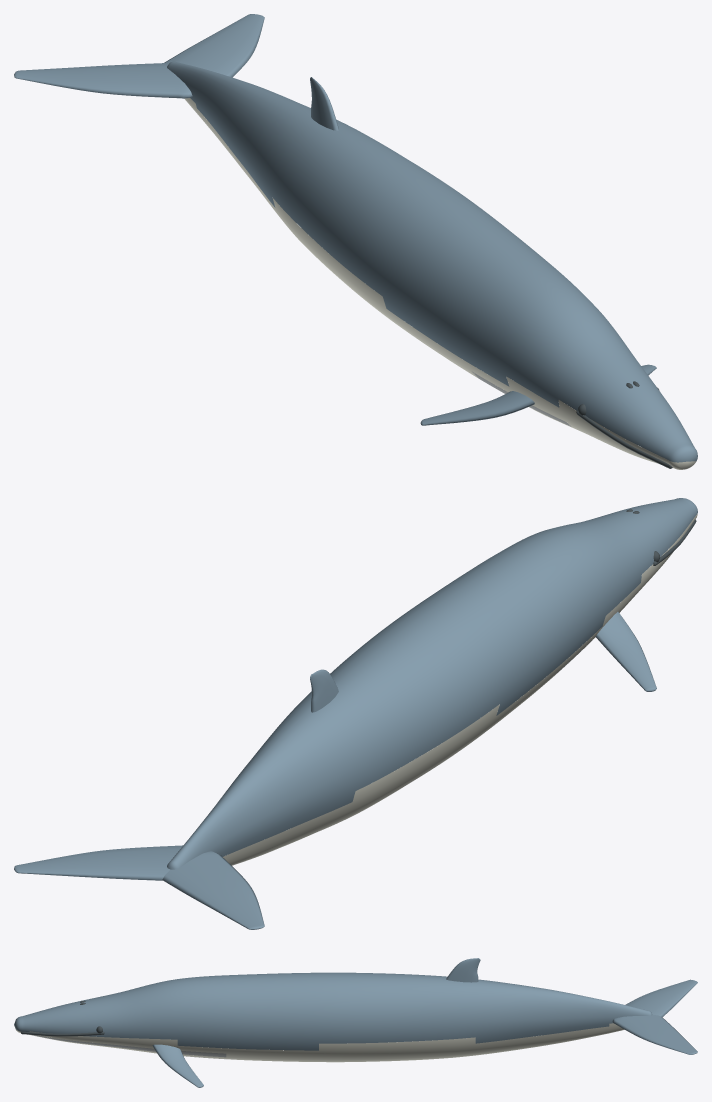
Rendered from drone.glb.
3 views of the same model, one above another, from view 1: azimuth 30°, elevation 25°; view 2: azimuth 150°, elevation 25°; view 3: azimuth 270°, elevation 25° (orthographic). The views are drawn at different scales.
Parts seen in each view (by area): view 1: fin-whale; view 2: fin-whale; view 3: fin-whale.
Boxes of the visible parts, x1=… form: fin-whale: x1=14, y1=14, x2=697, y2=469; fin-whale: x1=14, y1=498, x2=697, y2=929; fin-whale: x1=14, y1=958, x2=697, y2=1087.
Size of the model in its own units: 4.92 by 3.07 by 19.
